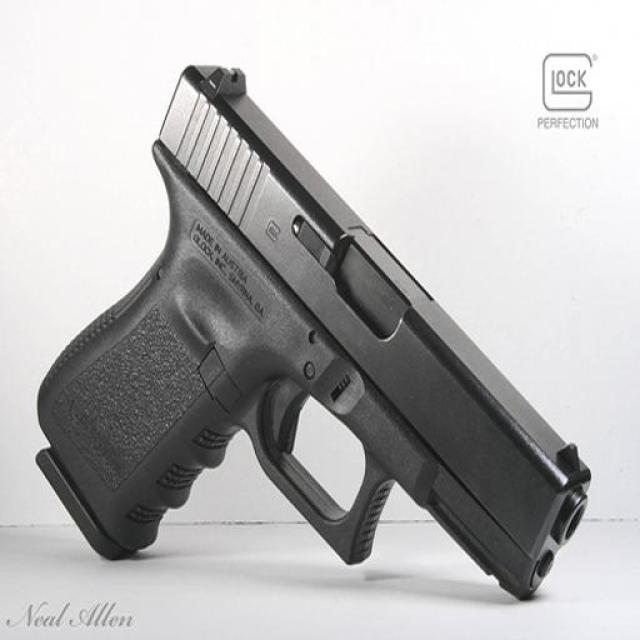pistol: (35, 62, 590, 601)
